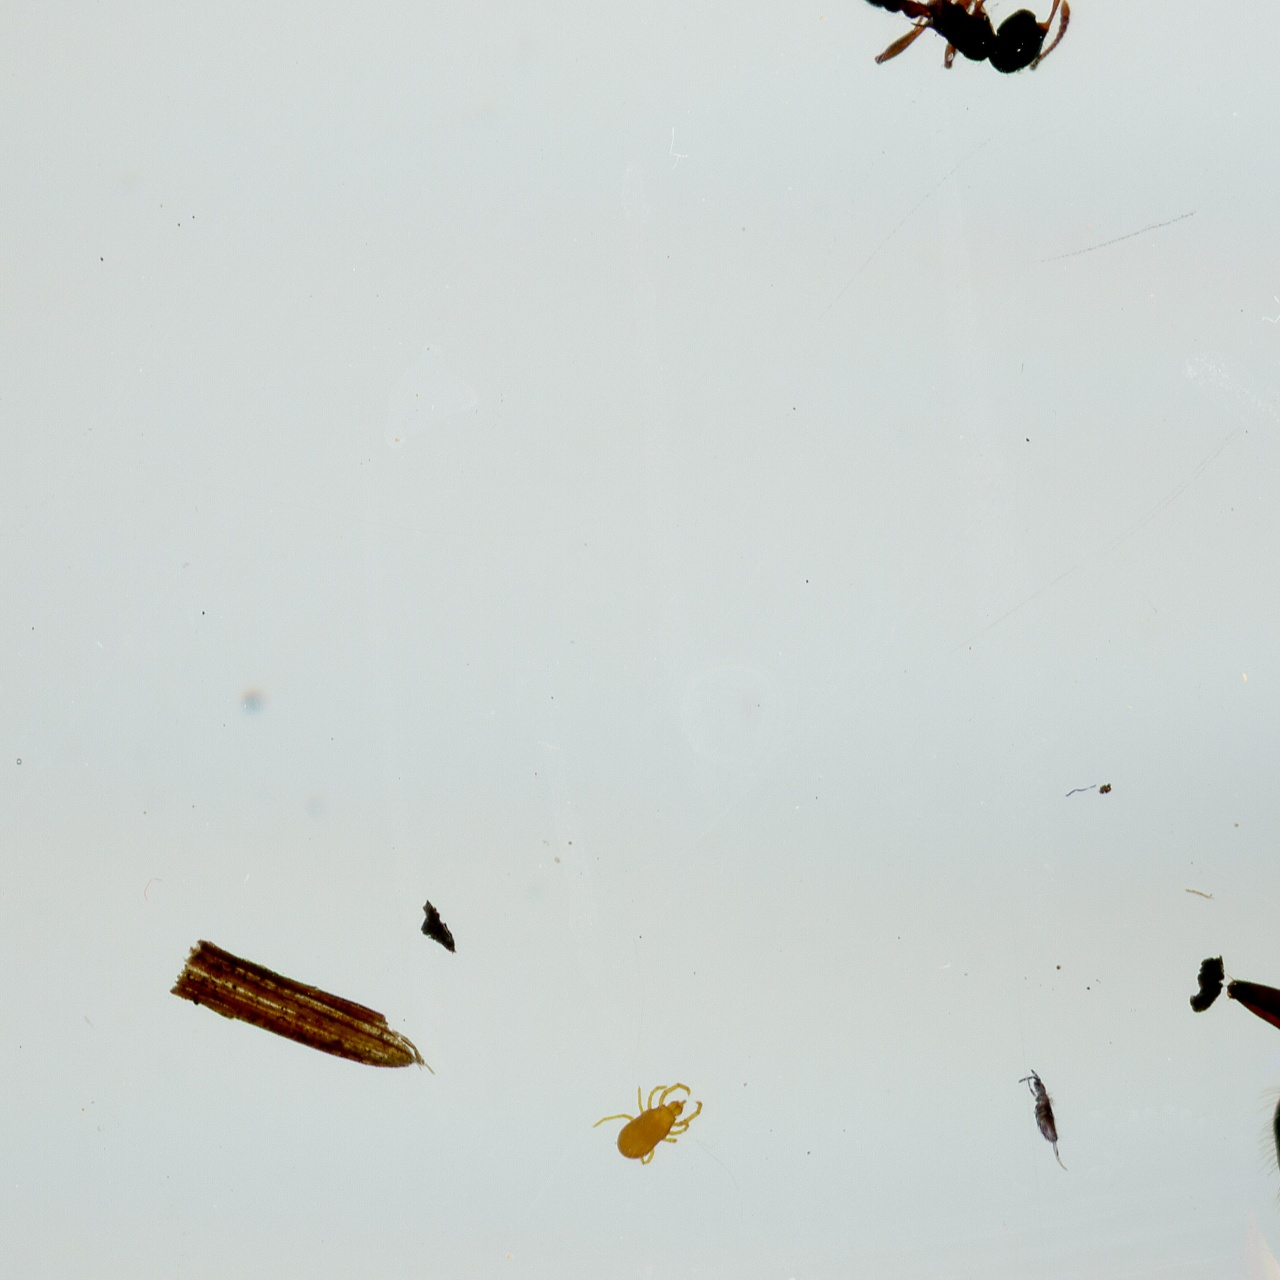arthropod: (1218, 867, 1280, 1280), (851, 0, 1113, 82), (590, 1080, 706, 1170), (1010, 1059, 1078, 1184)
